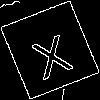X: (25, 25, 75, 81)
